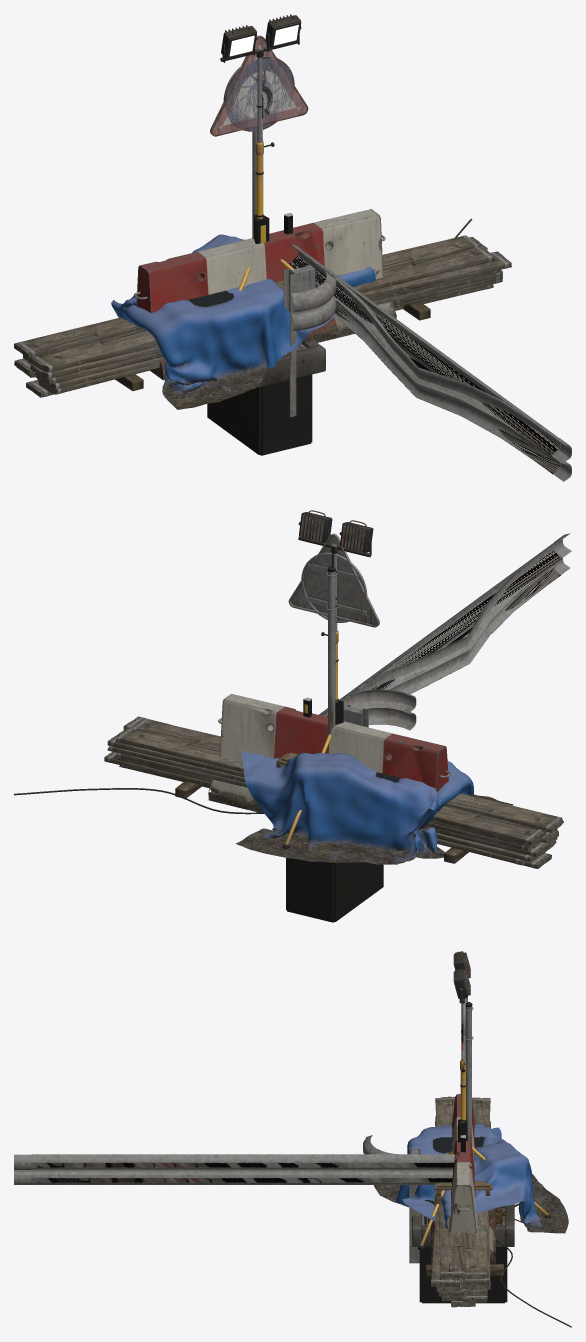
The model's file is props.glb.
The picture shows the model from 3 angles, top to bottom: view 1: azimuth 30°, elevation 25°; view 2: azimuth 150°, elevation 25°; view 3: azimuth 270°, elevation 25°; orthographic projection. The views are drawn at different scales.
Visible parts, largest first — view 1: plank_stack, tarp_pile, barrier, culvert_grate, guardrail_bent, sign_bend, guardrail_lod, sign_chains, guardrail_end, lamp_head, guardrail, light_tower; view 2: tarp_pile, plank_stack, barrier, guardrail_bent, sign_bend, culvert_grate, guardrail_lod, guardrail_end, lamp_head, guardrail, sign_chains, light_tower; view 3: guardrail, tarp_pile, plank_stack, guardrail_lod, barrier, culvert_grate, guardrail_end, light_tower, sign_bend, lamp_head, crate.
Part boxes in pixels (x1=…): plank_stack: x1=14, y1=235, x2=511, y2=394; tarp_pile: x1=111, y1=234, x2=375, y2=409; barrier: x1=134, y1=209, x2=396, y2=380; culvert_grate: x1=207, y1=340, x2=325, y2=455; guardrail_bent: x1=295, y1=248, x2=571, y2=481; sign_bend: x1=210, y1=35, x2=308, y2=238; guardrail_lod: x1=289, y1=244, x2=560, y2=473; sign_chains: x1=223, y1=57, x2=294, y2=131; guardrail_end: x1=283, y1=244, x2=336, y2=417; lamp_head: x1=220, y1=14, x2=301, y2=62; guardrail: x1=290, y1=244, x2=571, y2=481; light_tower: x1=238, y1=47, x2=472, y2=290; tarp_pile: x1=235, y1=750, x2=513, y2=864; plank_stack: x1=104, y1=716, x2=563, y2=865; barrier: x1=208, y1=694, x2=451, y2=829; guardrail_bent: x1=322, y1=533, x2=570, y2=716; sign_bend: x1=288, y1=533, x2=379, y2=733; culvert_grate: x1=286, y1=833, x2=383, y2=922; guardrail_lod: x1=322, y1=541, x2=561, y2=716; guardrail_end: x1=319, y1=689, x2=416, y2=730; lamp_head: x1=298, y1=510, x2=373, y2=557; guardrail: x1=321, y1=533, x2=571, y2=715; sign_chains: x1=301, y1=552, x2=367, y2=622; light_tower: x1=14, y1=544, x2=338, y2=848; guardrail: x1=14, y1=1154, x2=454, y2=1184; tarp_pile: x1=374, y1=1124, x2=568, y2=1233; plank_stack: x1=426, y1=1096, x2=503, y2=1302; guardrail_lod: x1=31, y1=1162, x2=454, y2=1182; barrier: x1=431, y1=1094, x2=495, y2=1263; culvert_grate: x1=412, y1=1203, x2=522, y2=1303; guardrail_end: x1=363, y1=1135, x2=454, y2=1263; light_tower: x1=418, y1=998, x2=571, y2=1327; sign_bend: x1=463, y1=998, x2=473, y2=1144; lamp_head: x1=453, y1=951, x2=470, y2=1003; crate: x1=434, y1=1181, x2=492, y2=1224.
Size of the model in its own units: 4.4 by 3.38 by 5.16.
Materials: 6 (4 with a texture image).
